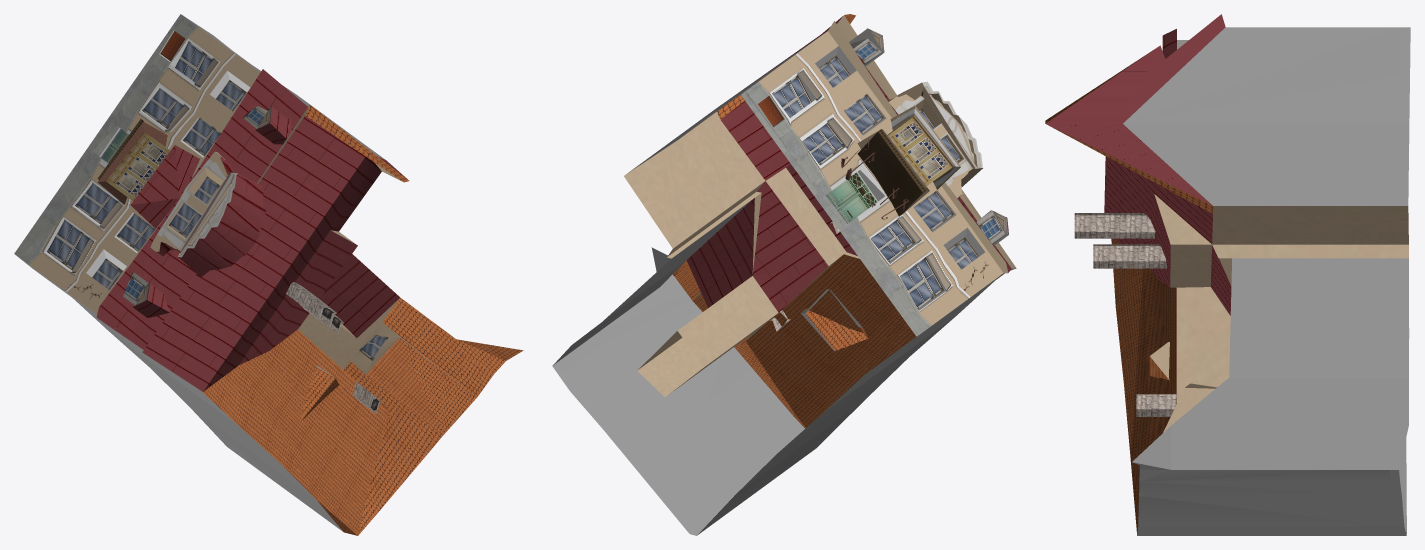
The model's file is Lai_6-origo.obj.
3 views of the same model, side by side, from view 1: azimuth 30°, elevation 25°; view 2: azimuth 150°, elevation 25°; view 3: azimuth 270°, elevation 25° (orthographic). The views are drawn at different scales.
Visible parts, largest first — view 1: Lai_6; view 2: Lai_6; view 3: Lai_6.
Part boxes in pixels (x1,y1,x2,y2): Lai_6: (14, 14, 523, 535); Lai_6: (552, 14, 1016, 535); Lai_6: (1045, 14, 1410, 535).
Size of the model in its own units: 20.62 by 23 by 15.48.
6 materials, 5 textured.
